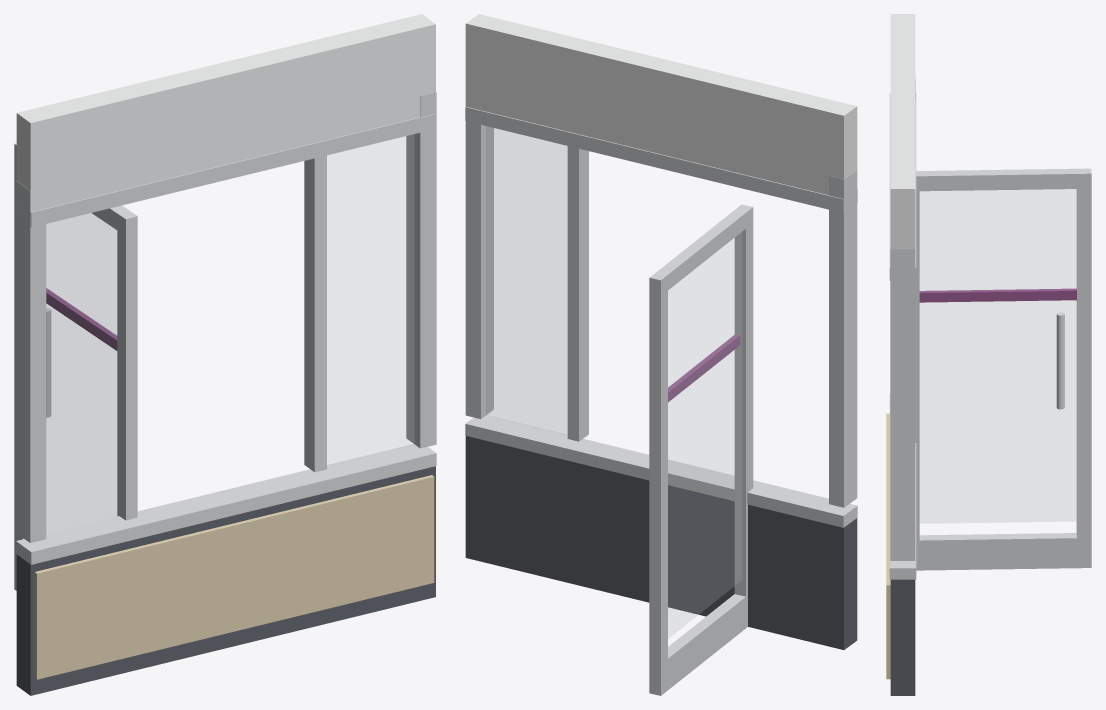
Rendered from pharmacy-and-high-street-chemist-shopfront-door-bay-op-c612f6be__37496.glb.
3 views of the same model, side by side, from view 1: azimuth 30°, elevation 25°; view 2: azimuth 150°, elevation 25°; view 3: azimuth 270°, elevation 25° (orthographic). The views are drawn at different scales.
Parts seen in each view (by area): view 1: shopfront-door-bay-open, door-shop (×3); view 2: shopfront-door-bay-open, door-shop (×3); view 3: door-shop (×3), shopfront-door-bay-open.
Part boxes in pixels (x1,y1,x2,y2): shopfront-door-bay-open: (16,14,436,695); door-shop (×3): (14,143,137,590); shopfront-door-bay-open: (465,14,857,649); door-shop (×3): (649,204,753,695); door-shop (×3): (915,168,1091,570); shopfront-door-bay-open: (886,14,916,695).
Bounding box in the file's own units: 2 × 2.7 × 0.9905.
